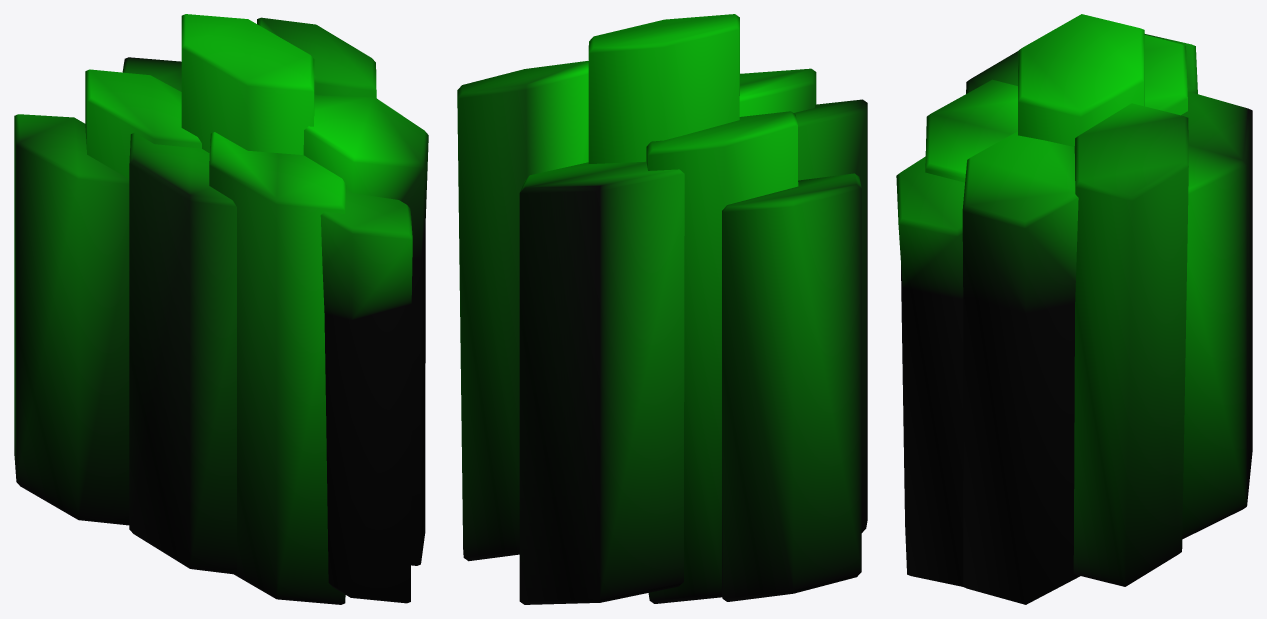
File: SM_RockHexic_RockSlanted06.fbx
The picture shows the model from 3 angles, left to right: view 1: azimuth 30°, elevation 25°; view 2: azimuth 150°, elevation 25°; view 3: azimuth 270°, elevation 25°; orthographic projection. The views are drawn at different scales.
Parts seen in each view (by area): view 1: SM_RockHexic_RockSlanted06; view 2: SM_RockHexic_RockSlanted06; view 3: SM_RockHexic_RockSlanted06.
Part boxes in pixels (x1,y1,x2,y2): SM_RockHexic_RockSlanted06: (14,14,428,604); SM_RockHexic_RockSlanted06: (457,14,867,604); SM_RockHexic_RockSlanted06: (896,14,1252,604).
Bounding box in the file's own units: 1143 × 1036 × 1607.
